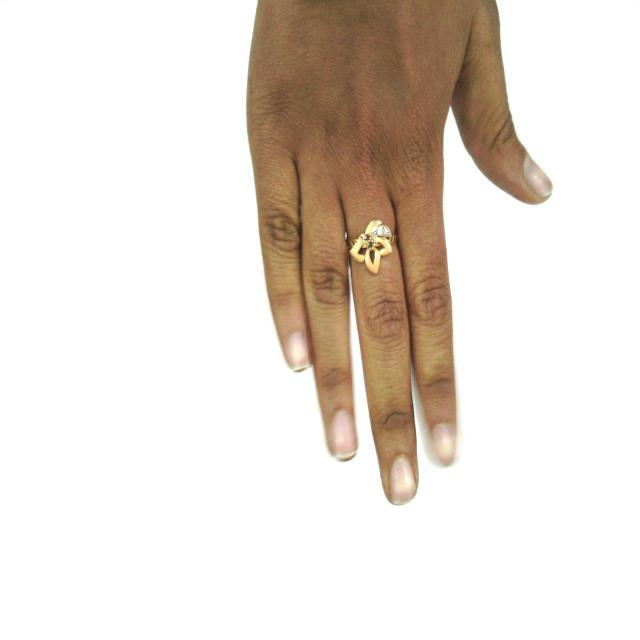Fingernail: (331, 410, 356, 460), (390, 456, 416, 504), (524, 158, 552, 197), (432, 424, 455, 466), (286, 333, 309, 371)
